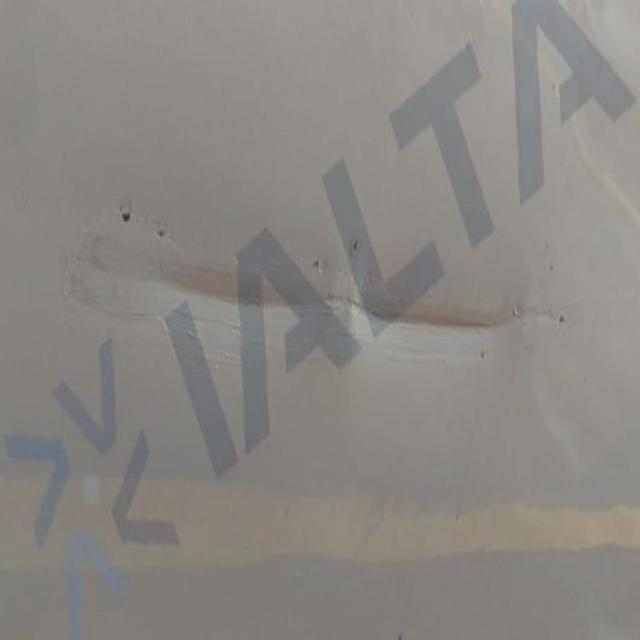Dent: (155, 265, 567, 329)
